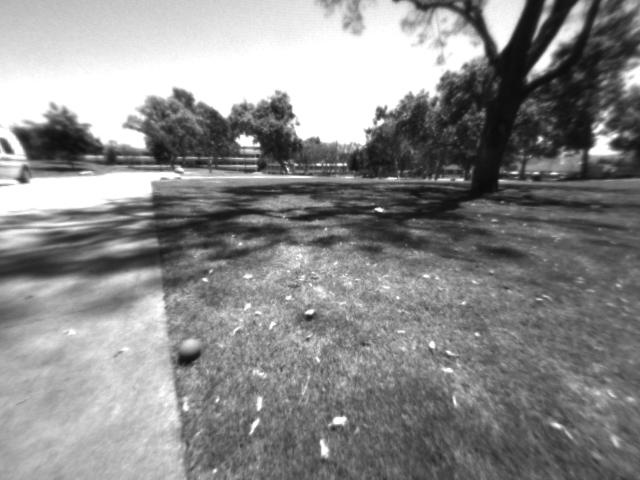dogtoy: (167, 326, 211, 366)
